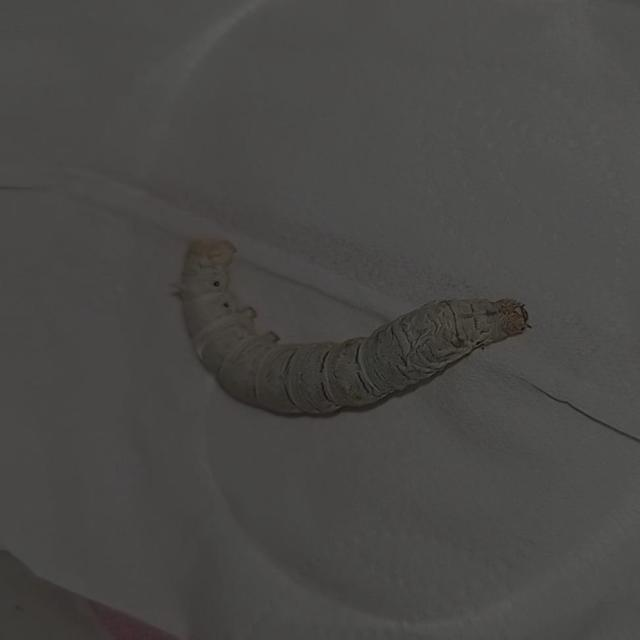Healthy: (154, 203, 542, 427)
